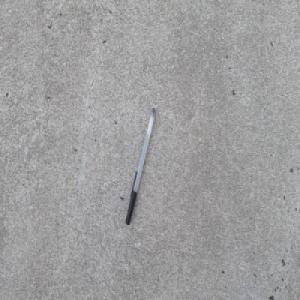Pen: (124, 107, 156, 227)
